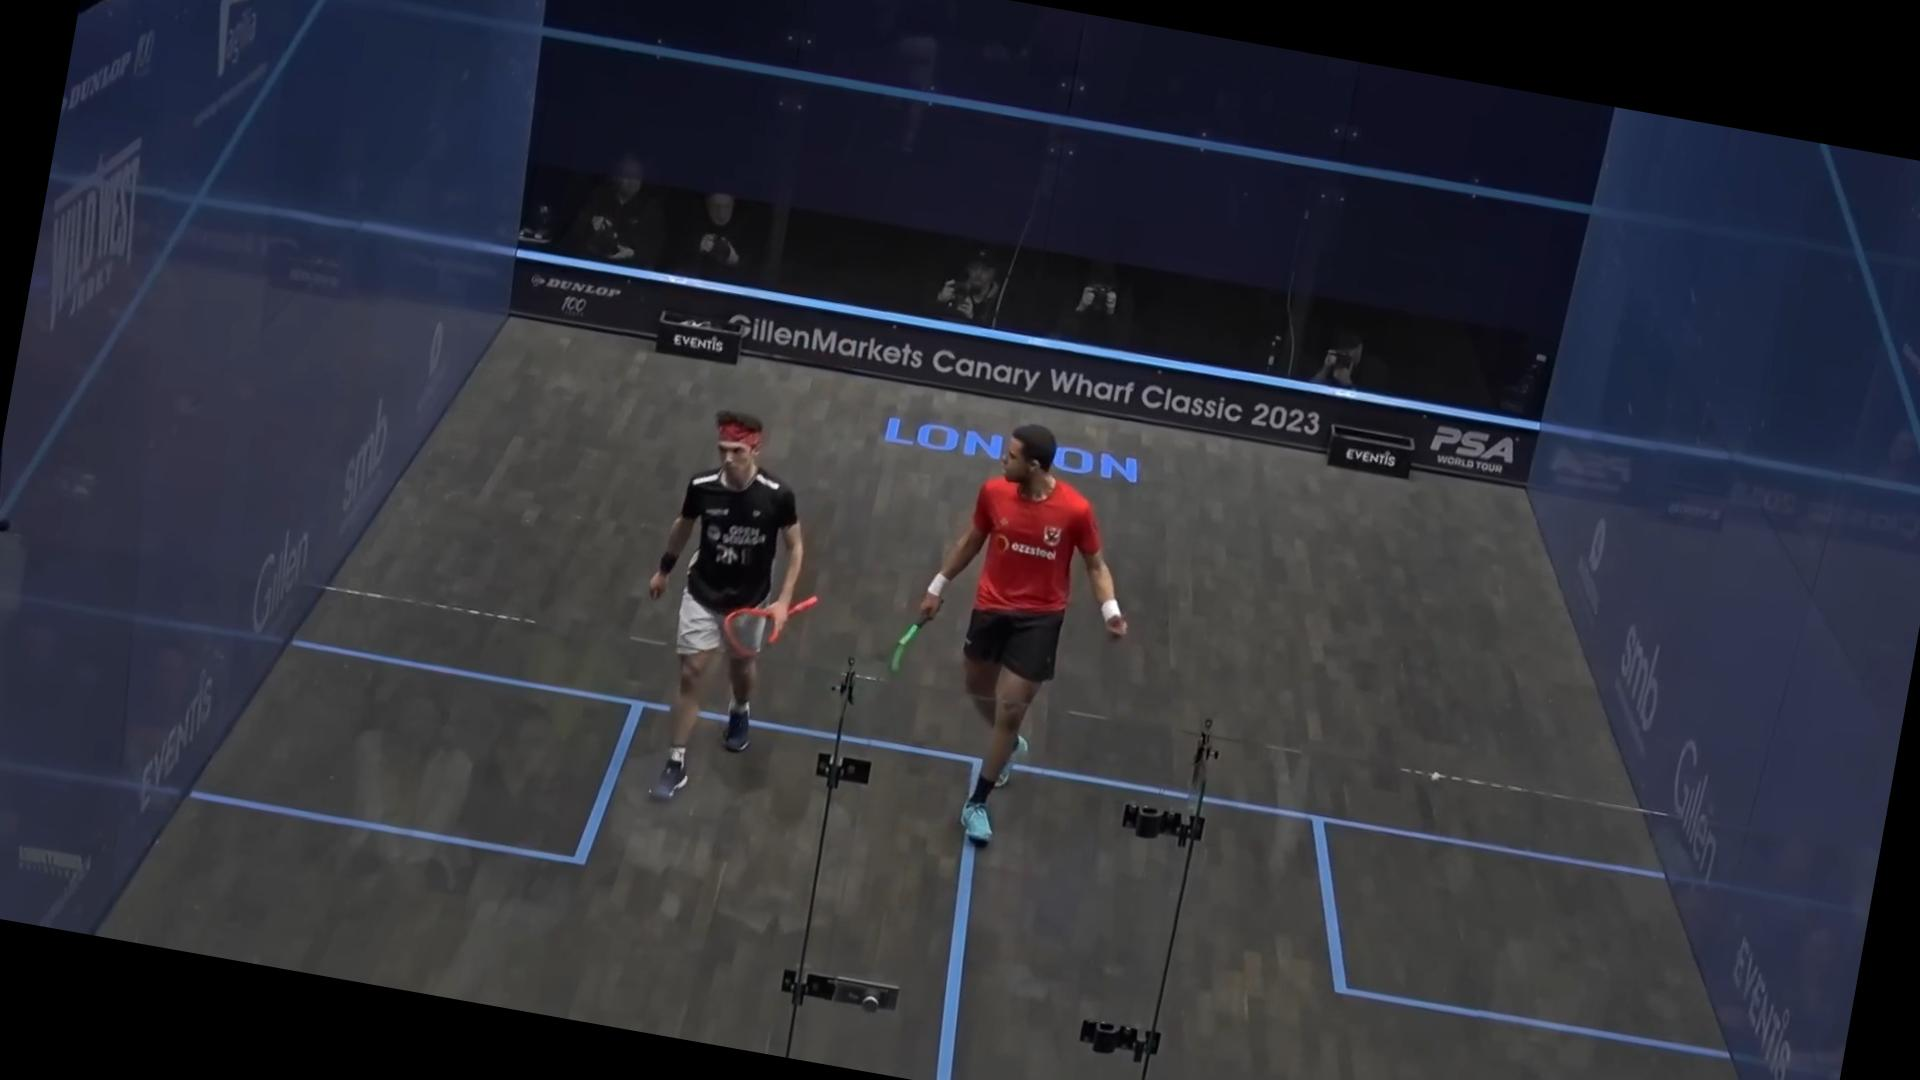Racket: (716, 570, 835, 675), (841, 601, 931, 711)
